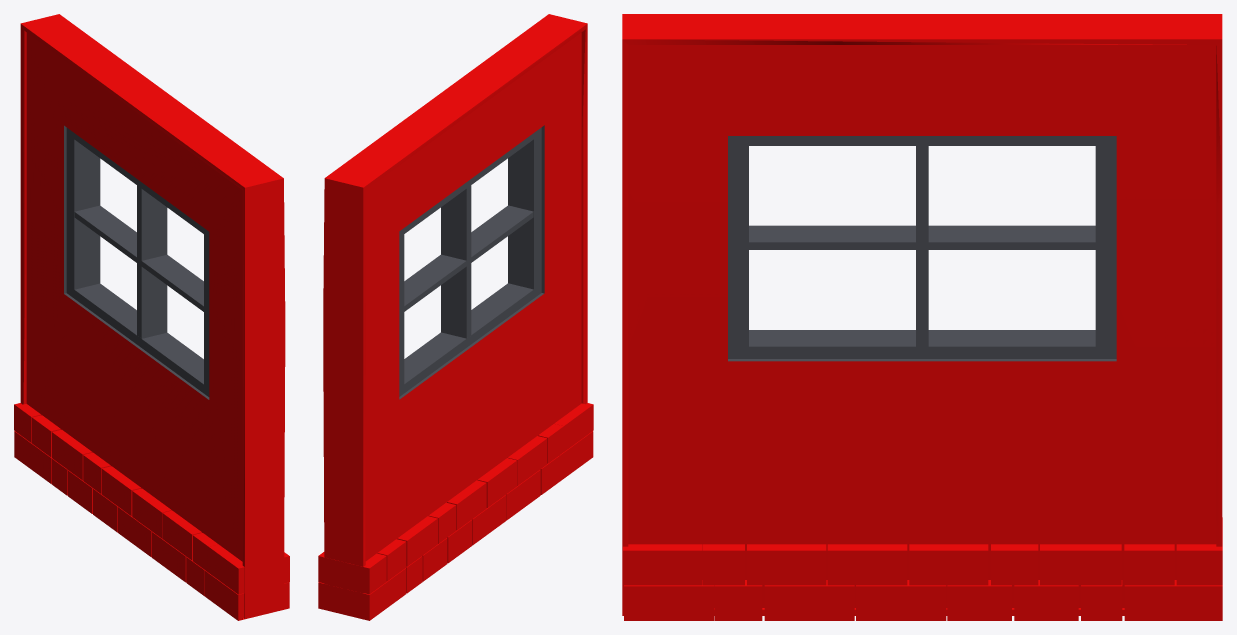
File: trimmedWallWindow.obj
3 views of the same model, side by side, from view 1: azimuth 30°, elevation 25°; view 2: azimuth 150°, elevation 25°; view 3: azimuth 270°, elevation 25° (orthographic). The views are drawn at different scales.
Parts seen in each view (by area): view 1: Cube; view 2: Cube; view 3: Cube.
Boxes of the visible parts, left/top/right/bottom form: Cube: left=14, top=14, right=289, bottom=620; Cube: left=318, top=14, right=593, bottom=620; Cube: left=622, top=14, right=1222, bottom=620.
Bounding box in the file's own units: 0.132 × 1.06 × 1.
